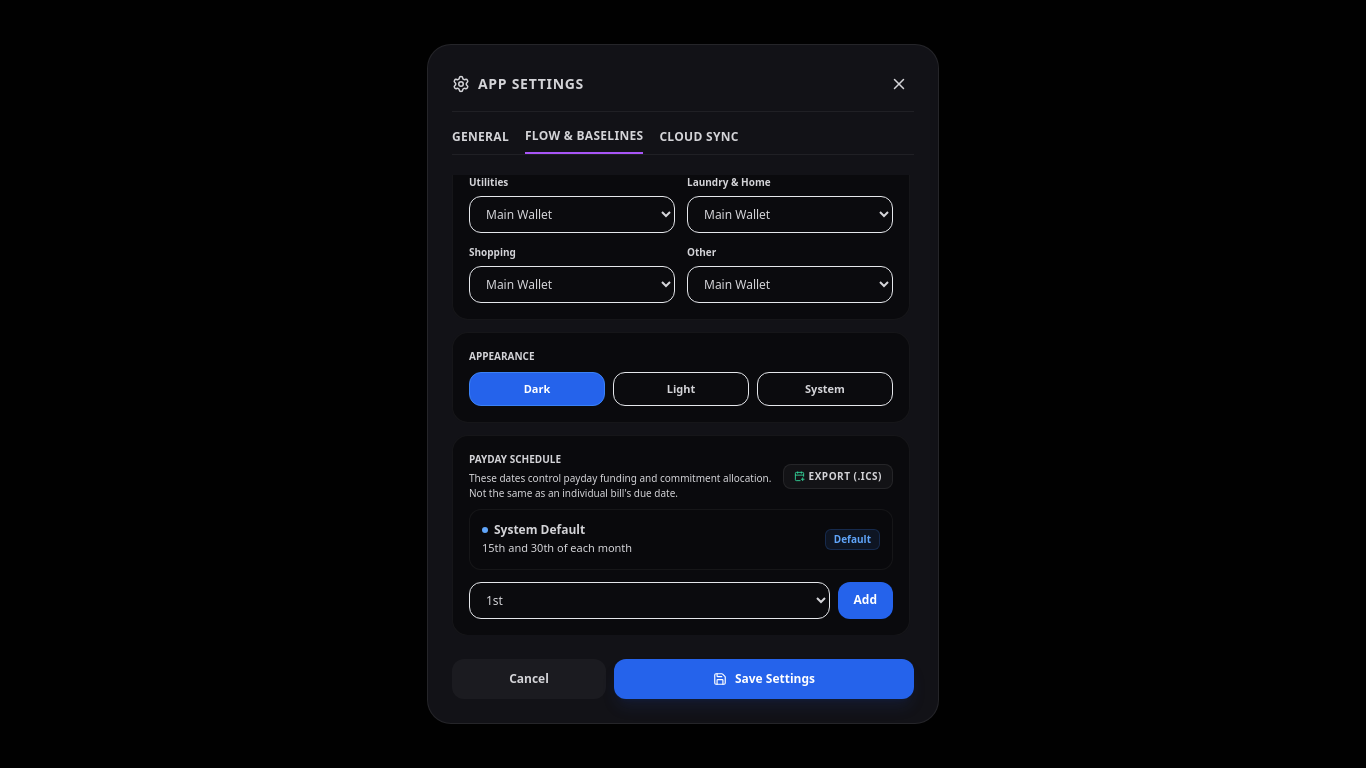
Scenario: SettingsModal - Custom Payday Configuration › adds multiple custom paydays and keeps them sorted numerically
(page scrolled)
// Add 25th, then 5th, then 10th
Select "25th" in the dropdown named "select payday day" at [649, 600], box [469,582,830,619]
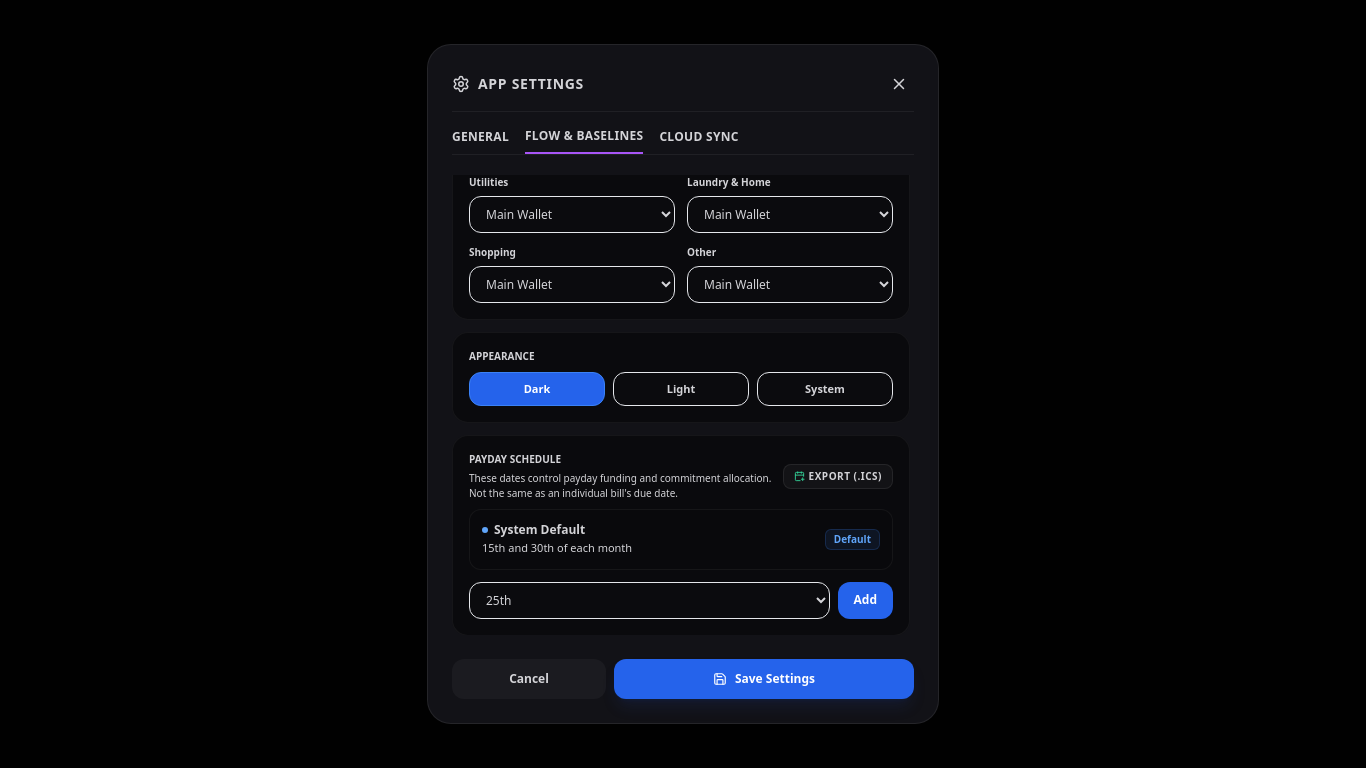
Click the button "Add" at [865, 600], box [838,582,893,619]
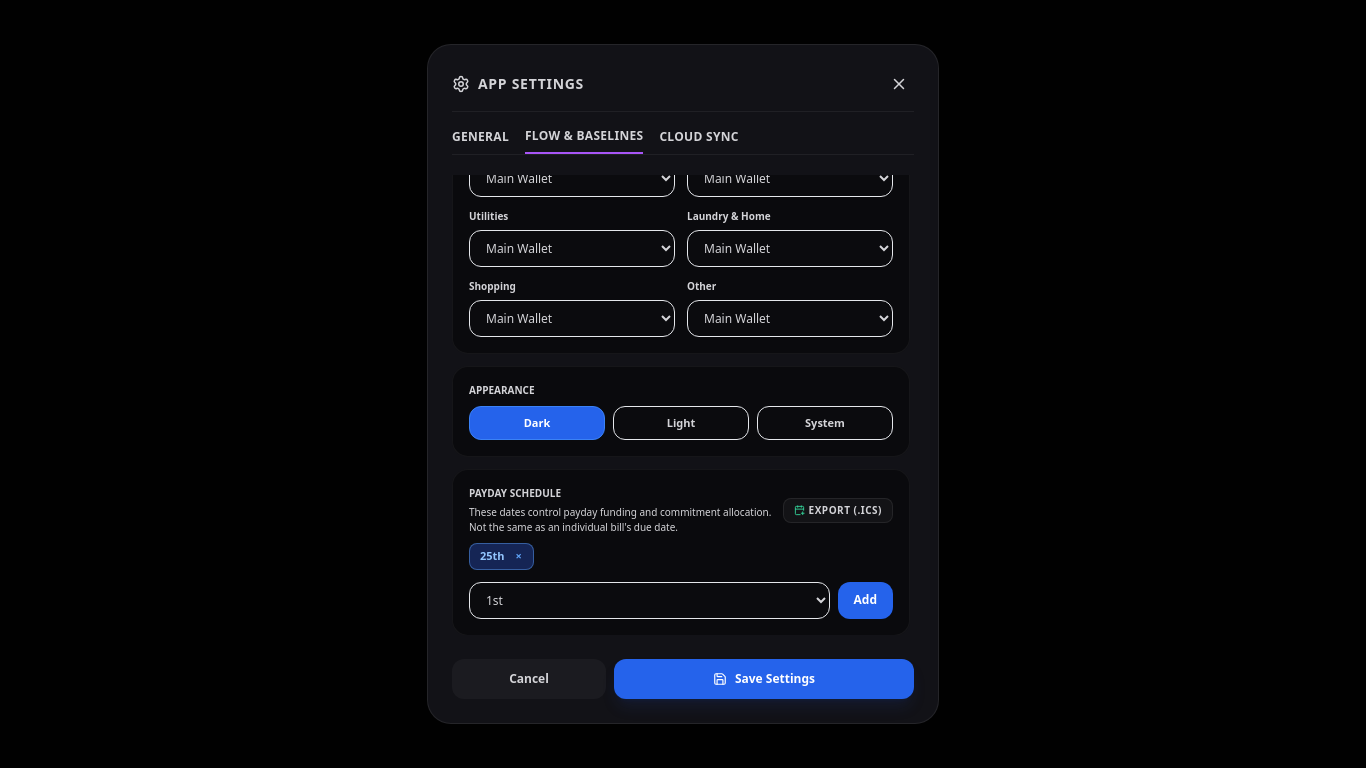
Select "5th" in the dropdown named "select payday day" at [649, 600], box [469,582,830,619]
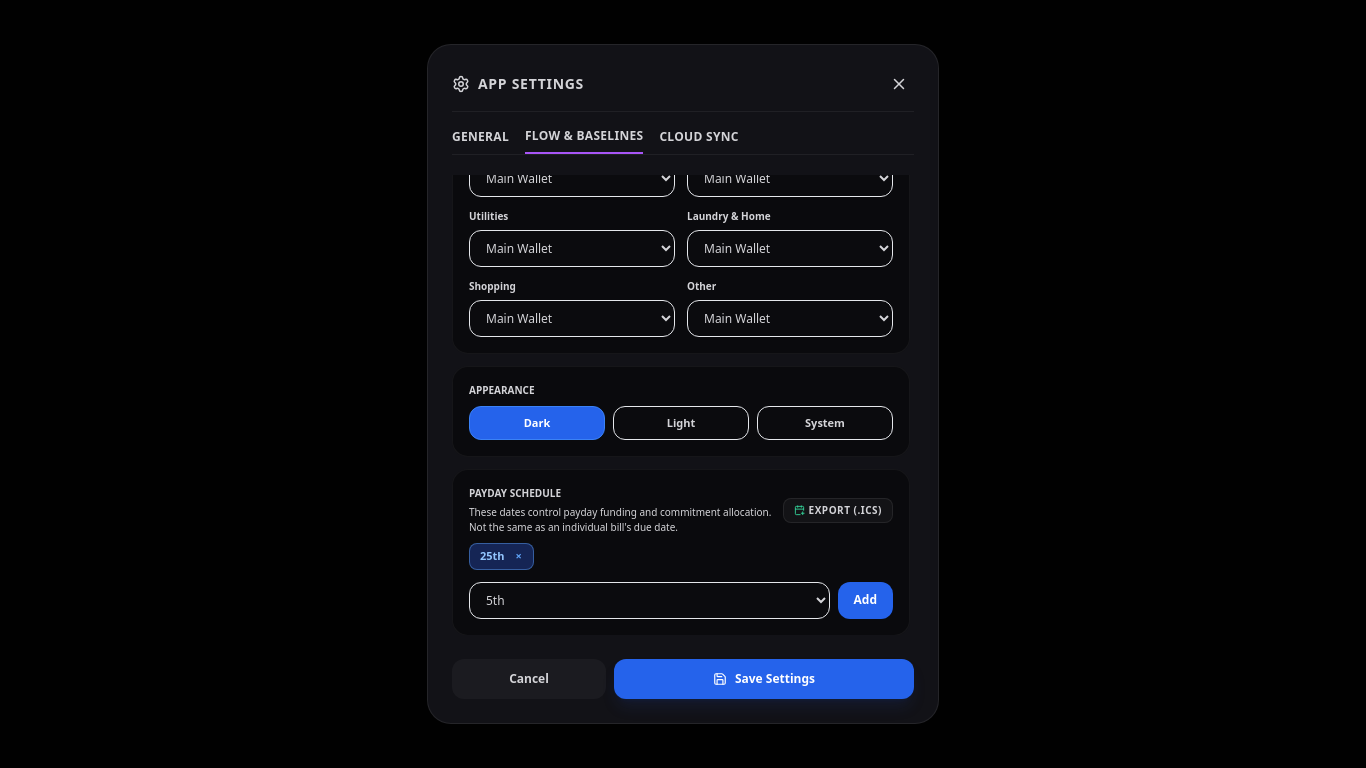
Click the button "Add" at [865, 600], box [838,582,893,619]
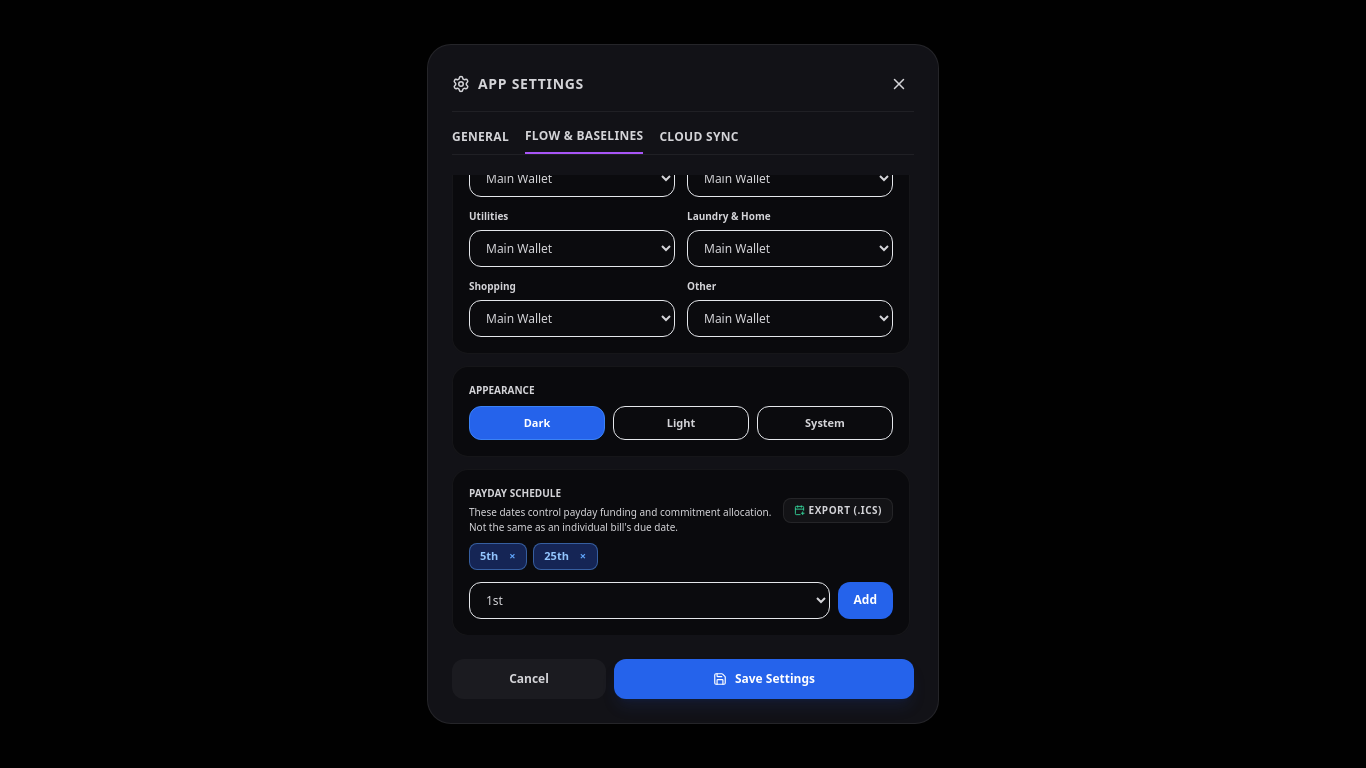
Select "10th" in the dropdown named "select payday day" at [649, 600], box [469,582,830,619]
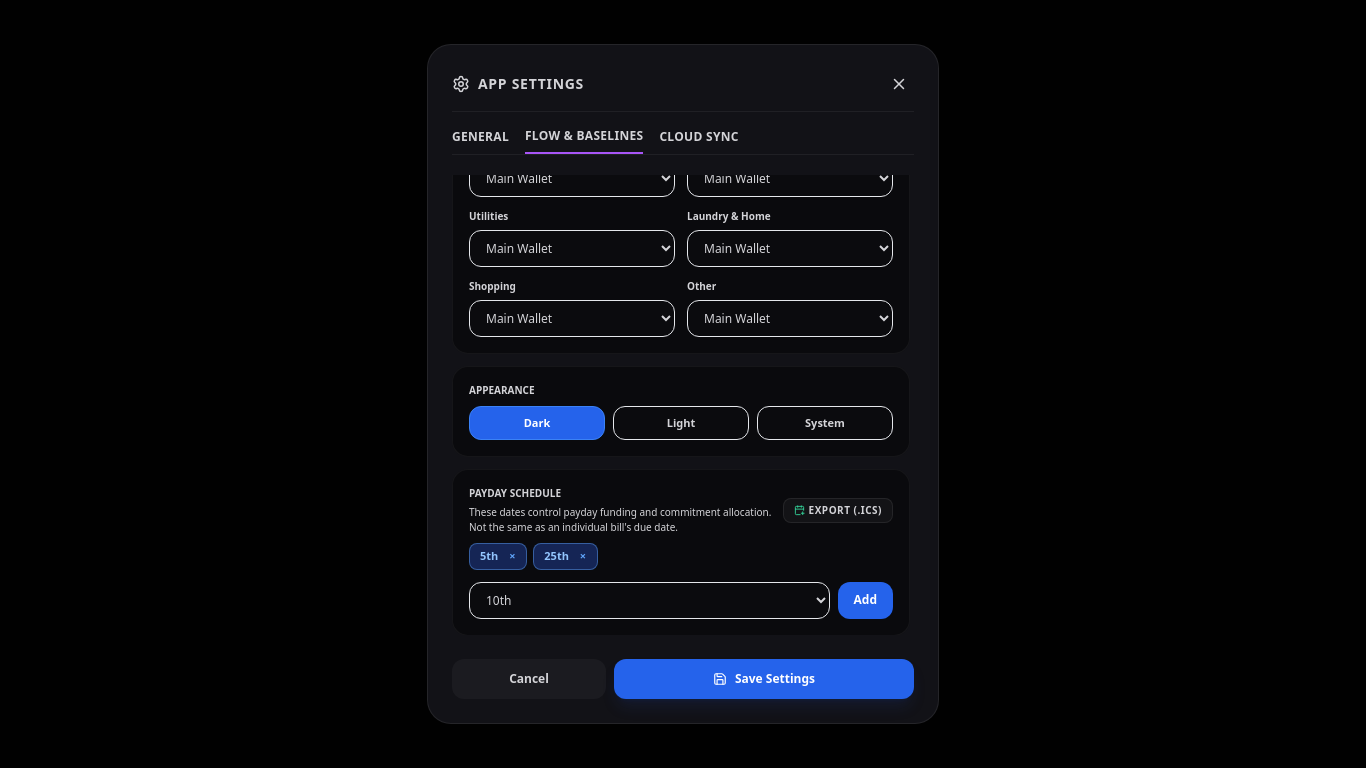
Click the button "Add" at [865, 600], box [838,582,893,619]
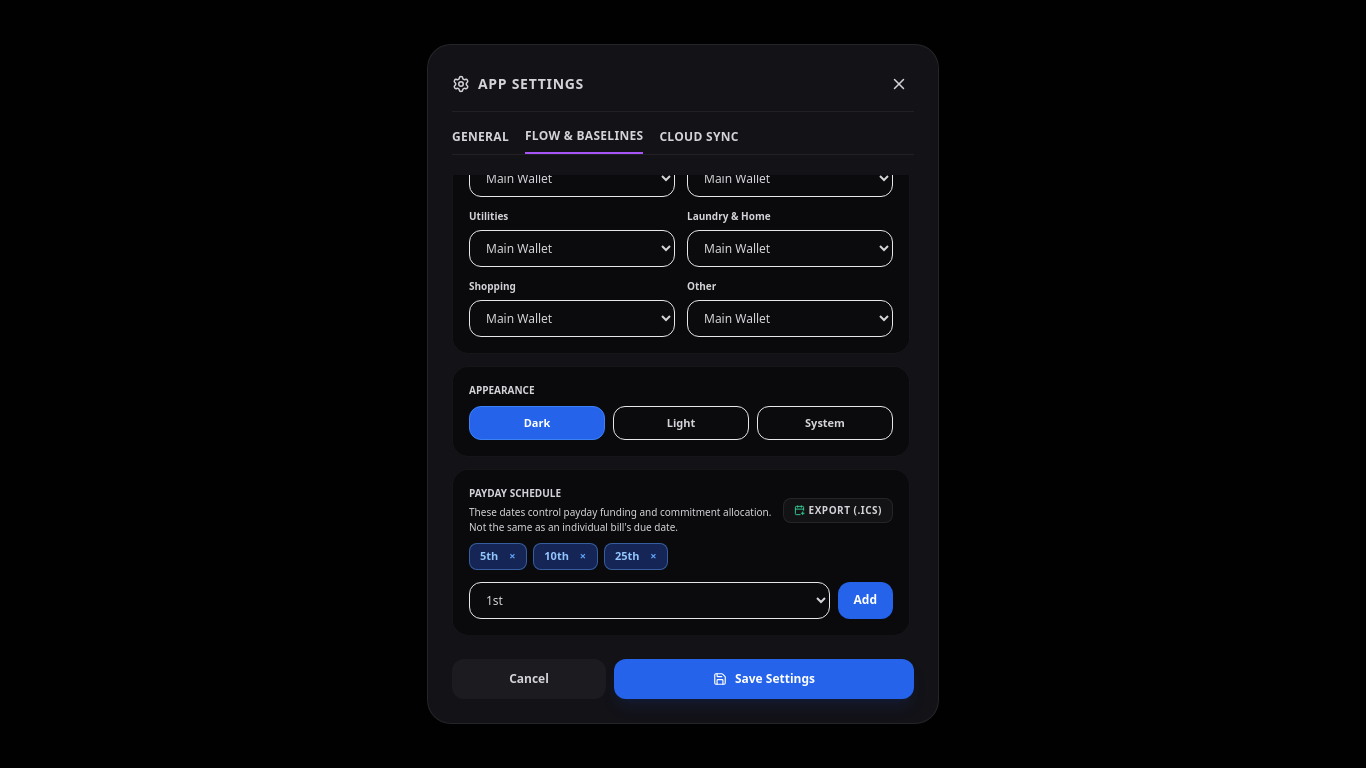
Now the element with test id "payday-chip-5" is shown, box [469,543,527,570]
Now the element with test id "payday-chip-25" is shown, box [604,543,668,570]
Now the element with test id "payday-chip-10" is shown, box [533,543,598,570]
